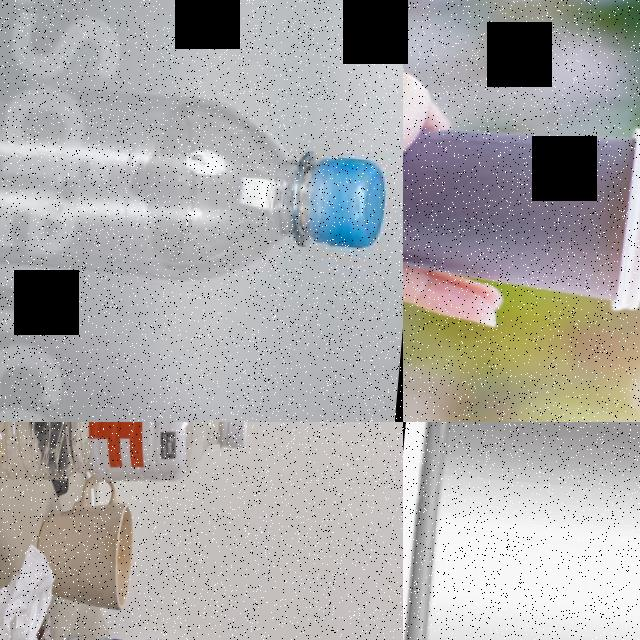bottle: (0, 61, 392, 304), (0, 422, 252, 502)
can: (403, 422, 640, 640)
cup: (403, 102, 640, 318)
